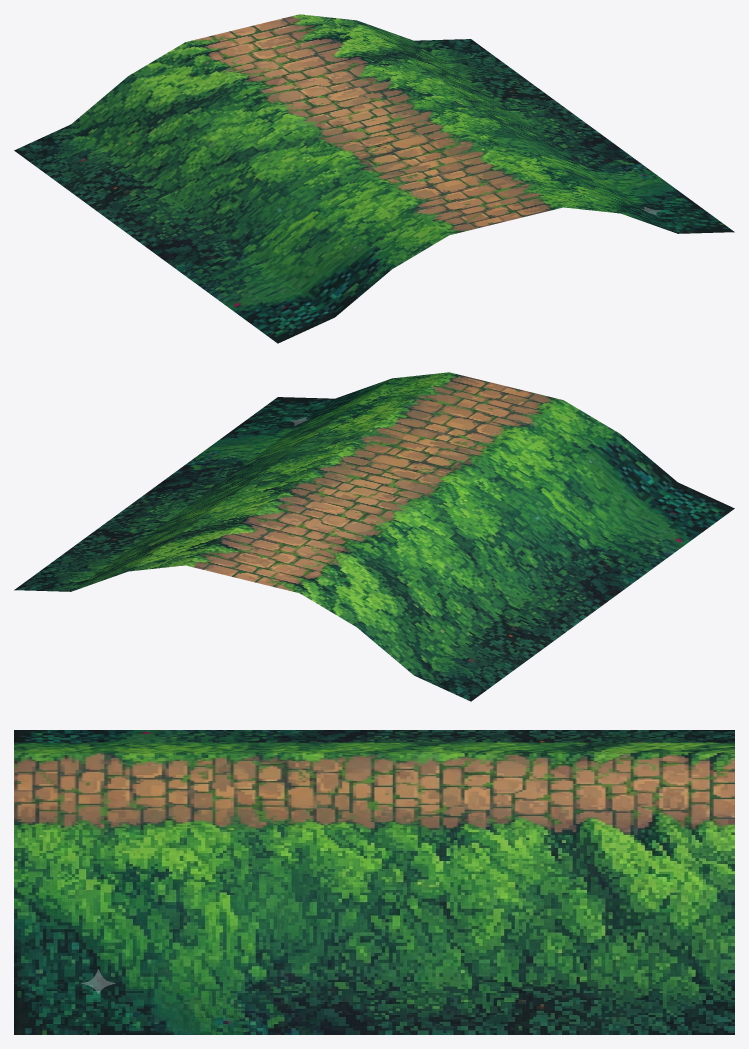
File: Ground.fbx
The picture shows the model from 3 angles, top to bottom: view 1: azimuth 30°, elevation 25°; view 2: azimuth 150°, elevation 25°; view 3: azimuth 270°, elevation 25°; orthographic projection. The views are drawn at different scales.
Visible parts, largest first — view 1: Plane; view 2: Plane; view 3: Plane.
Boxes of the visible parts, bbox=[...] form: Plane: bbox=[14, 14, 734, 343]; Plane: bbox=[14, 372, 734, 701]; Plane: bbox=[14, 730, 734, 1034].
Size of the model in its own units: 200 by 27.82 by 200.
1 material, 1 textured.
